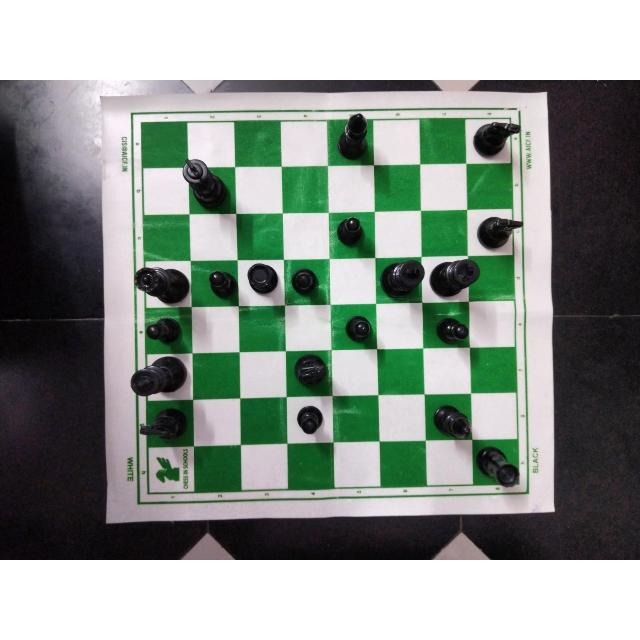black-bishop: (331, 111, 373, 163), (425, 397, 474, 441)
black-king: (128, 354, 191, 401), (181, 155, 231, 209), (428, 255, 483, 301), (377, 257, 427, 301)
black-knight: (471, 114, 525, 160), (131, 406, 192, 444), (474, 210, 526, 252), (292, 353, 334, 389)
black-pawn: (432, 310, 474, 349), (143, 314, 183, 346), (333, 213, 368, 249), (204, 265, 238, 300), (292, 402, 325, 438), (340, 314, 375, 346), (286, 266, 320, 298)
black-queen: (128, 264, 191, 303)
black-rook: (477, 442, 521, 489), (240, 260, 280, 300)
